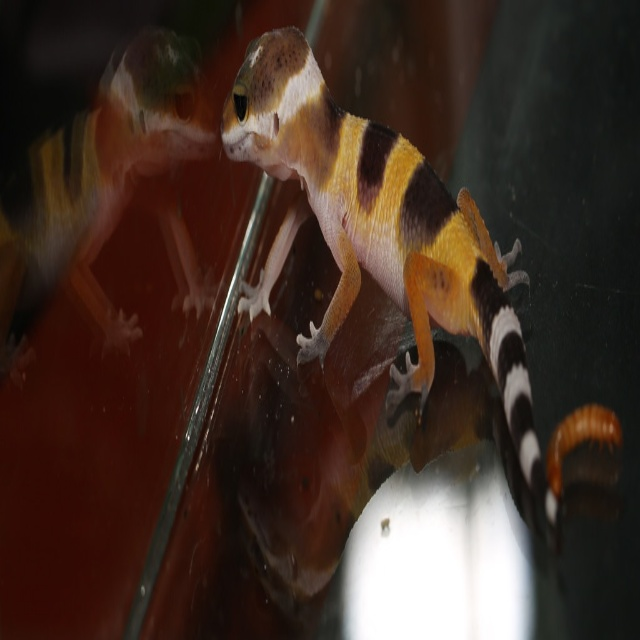Lizard: (222, 23, 618, 526)
